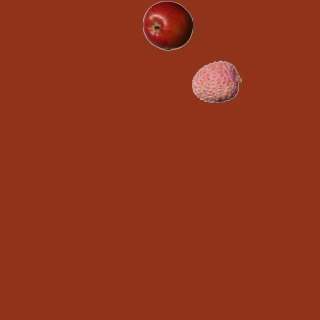Apple Braeburn: (142, 0, 192, 50)
Lychee: (191, 56, 241, 106)
